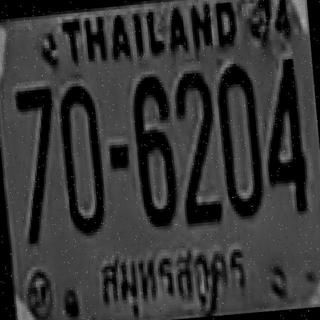N00: (213, 60, 265, 216), (56, 82, 106, 234)
N02: (172, 70, 219, 208), (174, 102, 220, 222)
N04: (256, 55, 308, 211)
N06: (128, 74, 178, 226)
N07: (14, 86, 59, 203), (14, 86, 58, 186), (14, 86, 57, 174)
P58: (90, 235, 255, 308)
